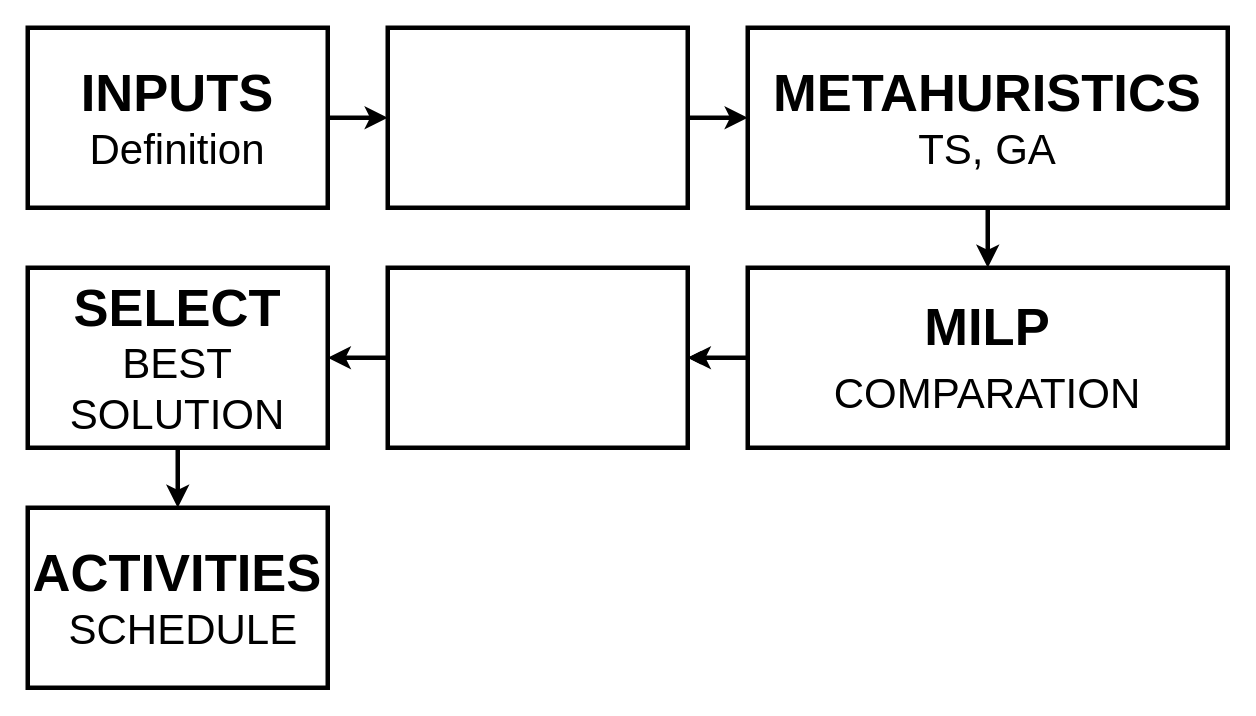
Image size: 1256x716. Some labels were removed from this diagram. Each missing label, with the centre of its shape:
"JSS Approach" goes at [537,117].
"SELECT BEST ALGORITHM" goes at [537,357].
